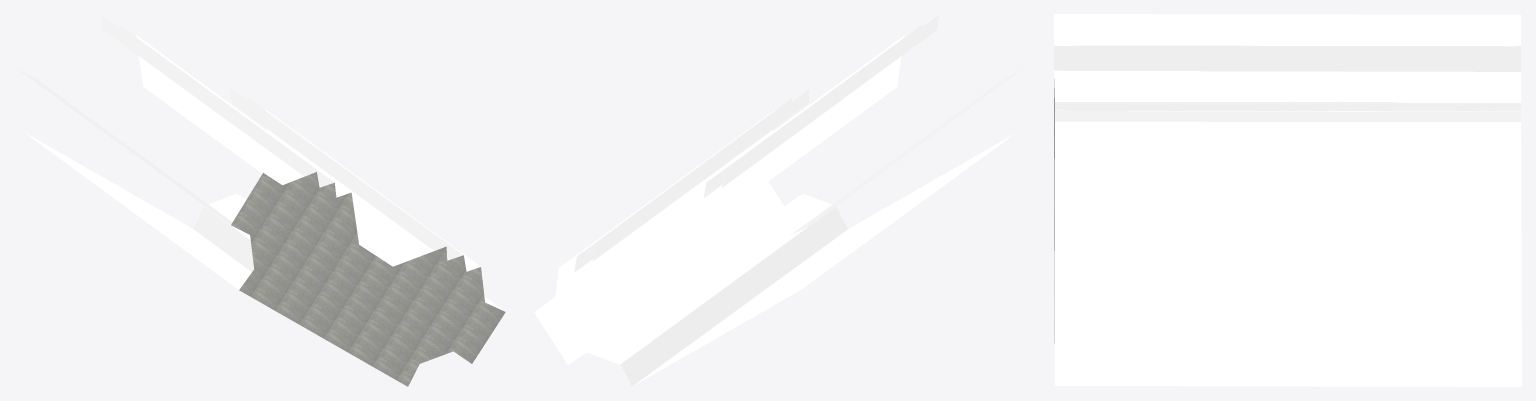
3 views of the same model, side by side, from view 1: azimuth 30°, elevation 25°; view 2: azimuth 150°, elevation 25°; view 3: azimuth 270°, elevation 25° (orthographic). The views are drawn at different scales.
Visible parts, largest first — view 1: BuildingMaster_2005193426984464507700000000_1, BuildingMaster_2005193426984464507700000000_0; view 2: BuildingMaster_2005193426984464507700000000_0; view 3: BuildingMaster_2005193426984464507700000000_0.
Part boxes in pixels (bbox=[...]): BuildingMaster_2005193426984464507700000000_1: bbox=[231, 172, 505, 386]; BuildingMaster_2005193426984464507700000000_0: bbox=[15, 14, 504, 311]; BuildingMaster_2005193426984464507700000000_0: bbox=[534, 14, 1024, 386]; BuildingMaster_2005193426984464507700000000_0: bbox=[1054, 14, 1521, 386].
Size of the model in its own units: 100 by 86.75 by 136.
